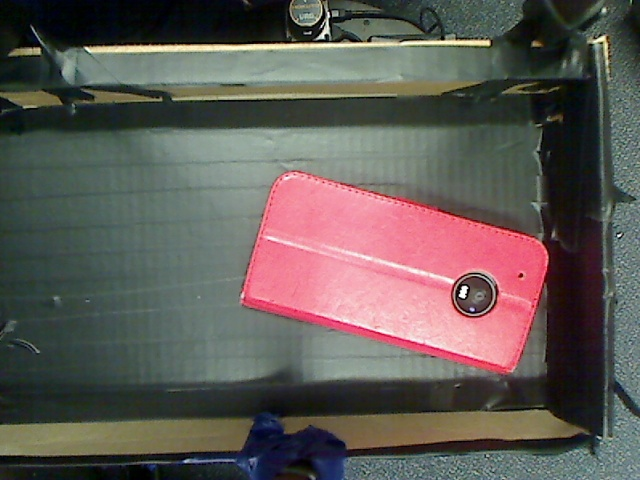phone: (242, 155, 550, 385)
